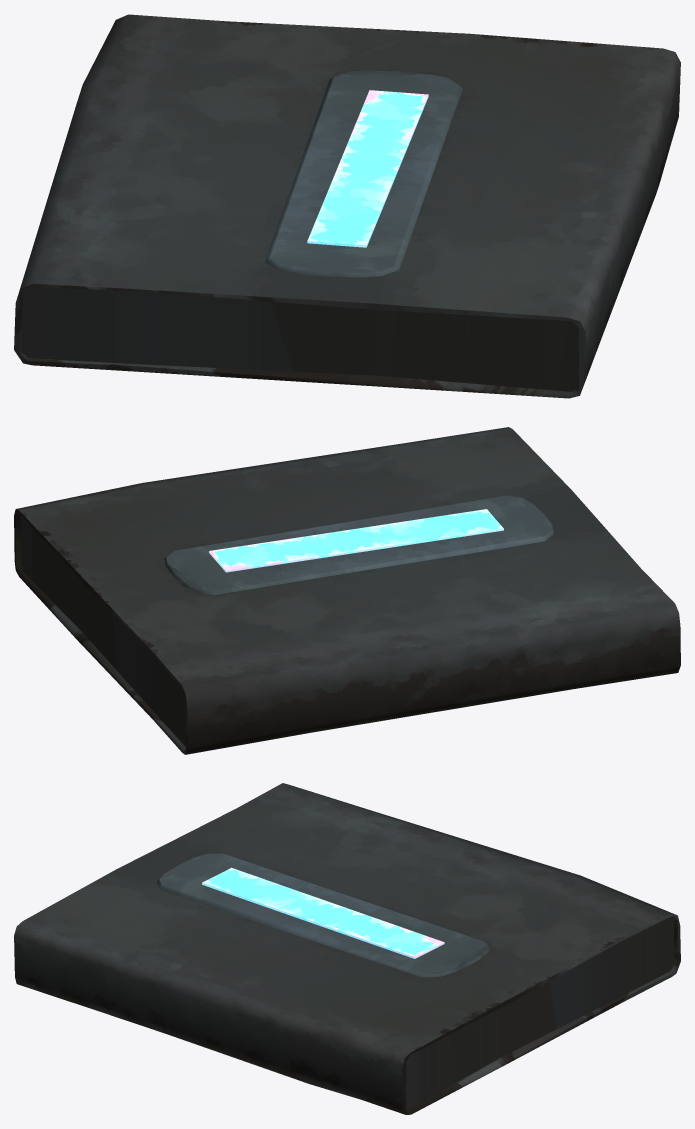
File: Body1.gltf
The picture shows the model from 3 angles, top to bottom: view 1: azimuth 30°, elevation 25°; view 2: azimuth 150°, elevation 25°; view 3: azimuth 270°, elevation 25°; orthographic projection. The views are drawn at different scales.
Visible parts, largest first — view 1: PlatformModel3; view 2: PlatformModel3; view 3: PlatformModel3.
Boxes of the visible parts, x1=… form: PlatformModel3: x1=14, y1=14, x2=680, y2=398; PlatformModel3: x1=14, y1=427, x2=680, y2=754; PlatformModel3: x1=14, y1=783, x2=680, y2=1114.
Bounding box in the file's own units: 1.26 × 0.1536 × 1.28.
4 materials, 4 textured.
